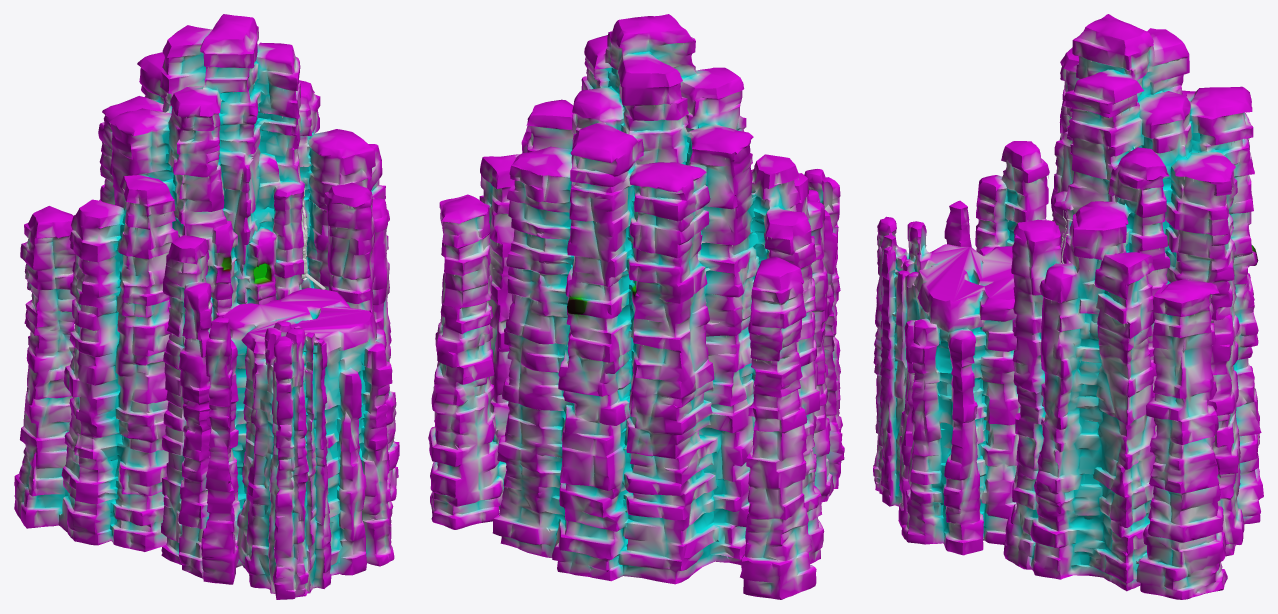
File: Montanha_Bastiao.fbx
The picture shows the model from 3 angles, left to right: view 1: azimuth 30°, elevation 25°; view 2: azimuth 150°, elevation 25°; view 3: azimuth 270°, elevation 25°; orthographic projection. The views are drawn at different scales.
Visible parts, largest first — view 1: Montanha_Bastiao, Montanha_Bastiao_Gelo; view 2: Montanha_Bastiao; view 3: Montanha_Bastiao.
Part boxes in pixels (left/top/right/bottom): Montanha_Bastiao: left=14, top=14, right=399, bottom=599; Montanha_Bastiao_Gelo: left=36, top=41, right=387, bottom=384; Montanha_Bastiao: left=428, top=14, right=844, bottom=599; Montanha_Bastiao: left=873, top=14, right=1263, bottom=599.
Bounding box in the file's own units: 403 × 515 × 370.
